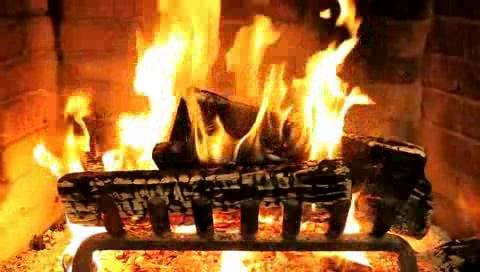fire: (102, 16, 370, 192)
